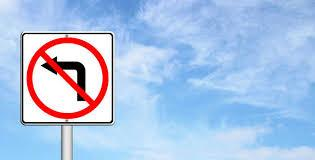no_left_turn: (25, 36, 107, 118)
